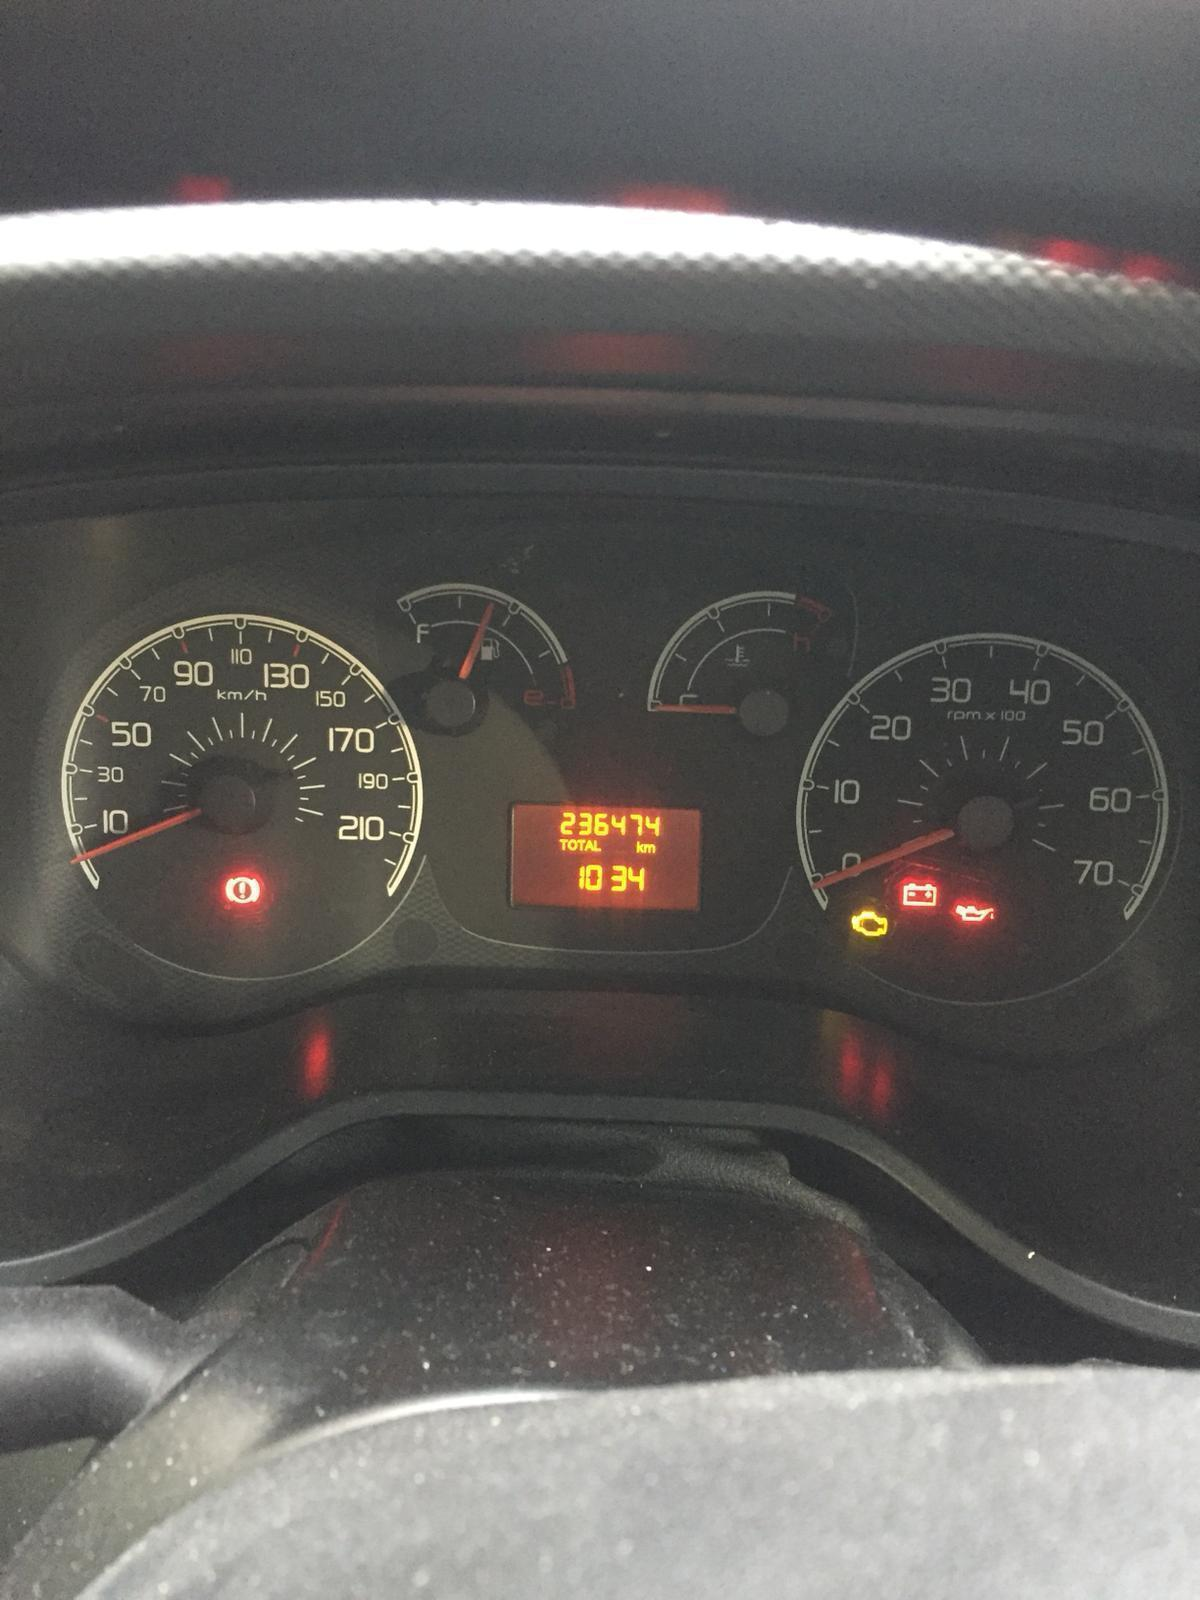0: (586, 862, 604, 891)
1: (579, 862, 586, 891)
2: (560, 810, 575, 837)
3: (611, 862, 626, 891), (579, 811, 592, 837)
4: (611, 813, 629, 837), (628, 866, 644, 891), (644, 814, 661, 837)
6: (592, 811, 610, 837)
7: (630, 811, 643, 837)
X: (643, 842, 655, 855), (637, 840, 645, 855), (558, 838, 568, 850), (568, 838, 577, 850), (592, 839, 601, 850), (577, 838, 585, 850), (585, 839, 592, 852)
odometer: (509, 799, 705, 913)
